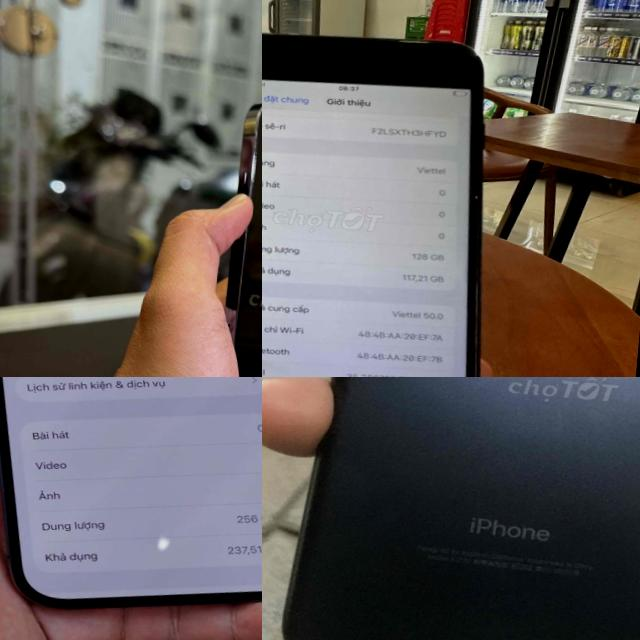gen_12_13: (198, 96, 262, 377)
gen_14: (0, 377, 262, 624)
gen_7_8: (280, 377, 640, 640), (262, 35, 483, 377)
